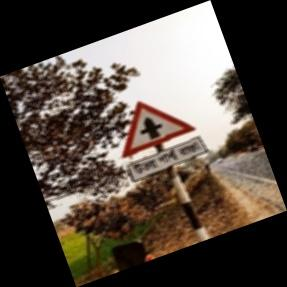Crossroad: (120, 100, 207, 186)
